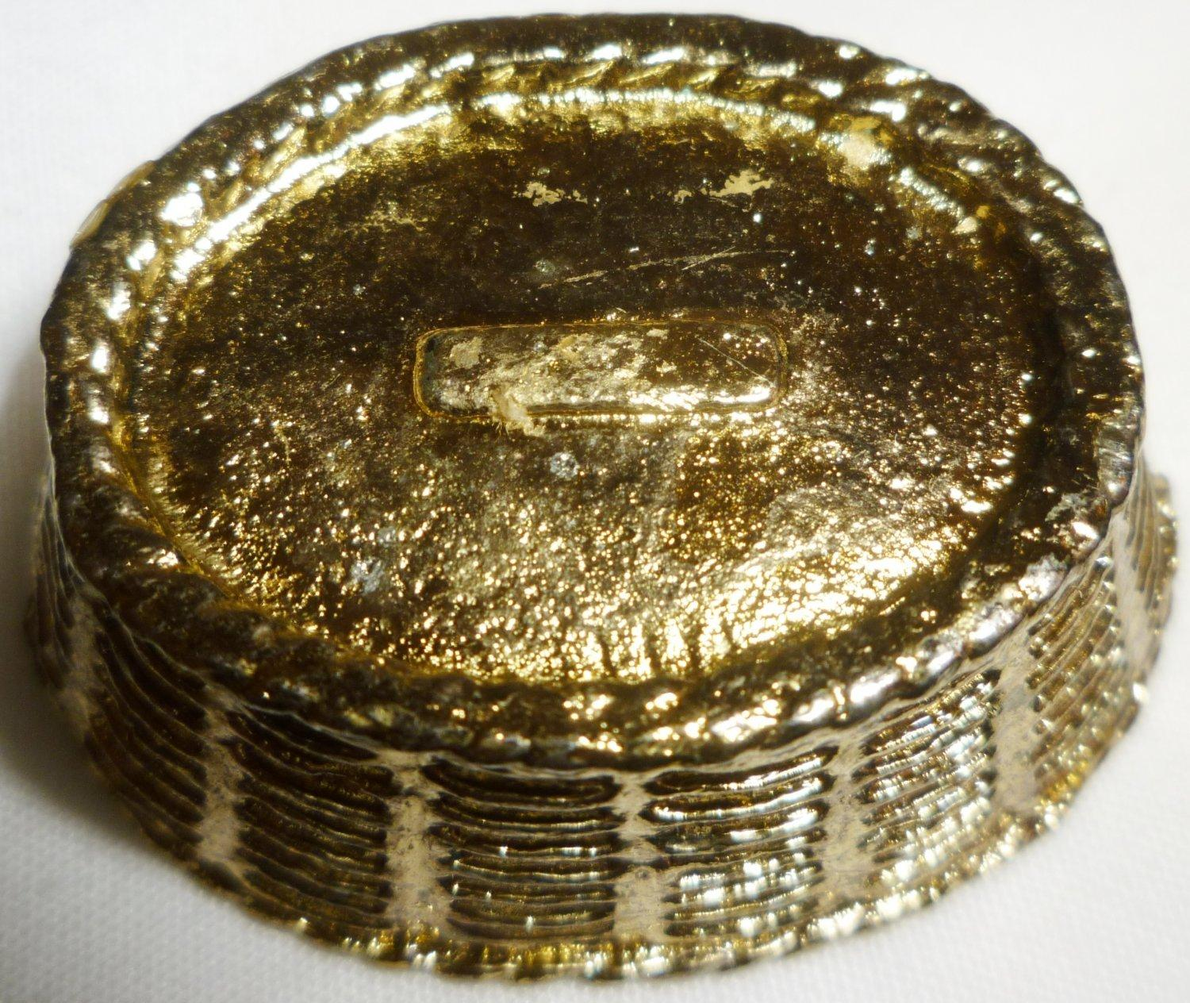metal: (28, 13, 1177, 980)
